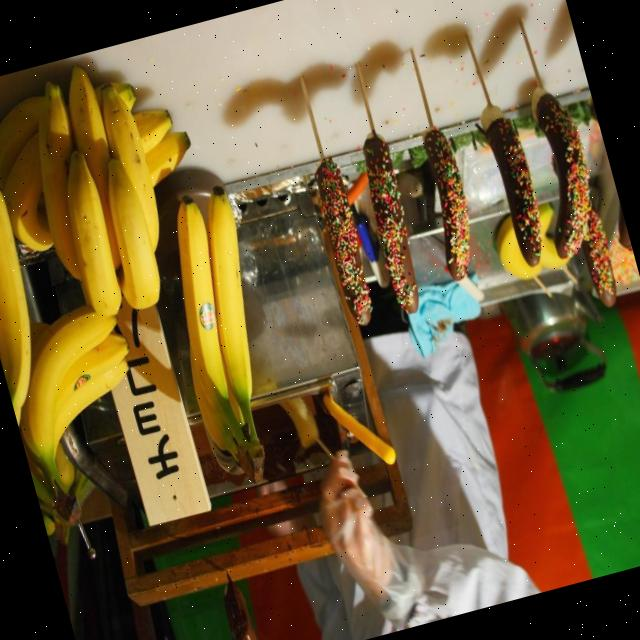banana: (98, 149, 158, 308), (62, 146, 119, 313)
